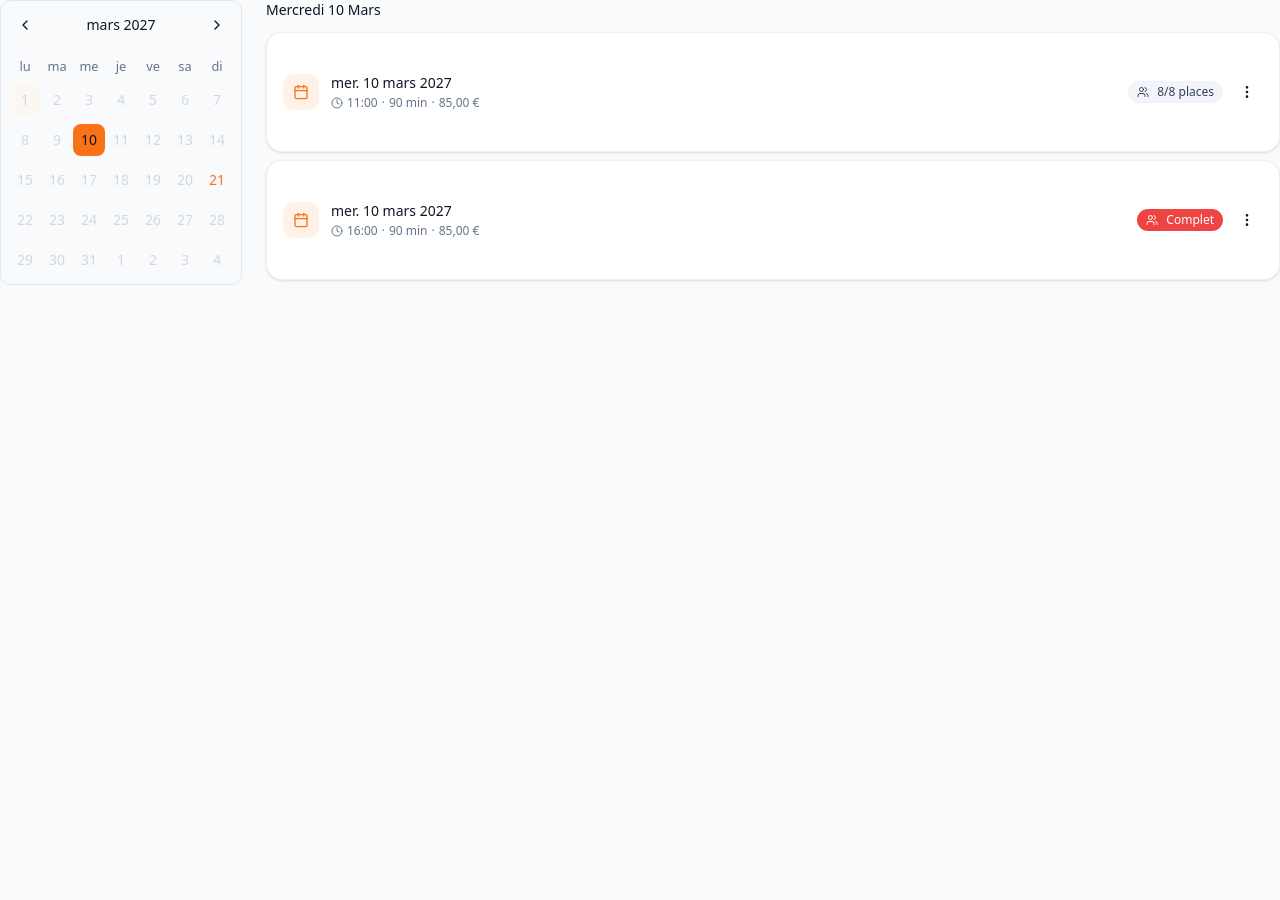
it: SlotCalendar › ouvre la confirmation avant de supprimer
Click the button named "Actions" next to "8/8 places". click: (1247,92)
box: [1231,76,1263,108]
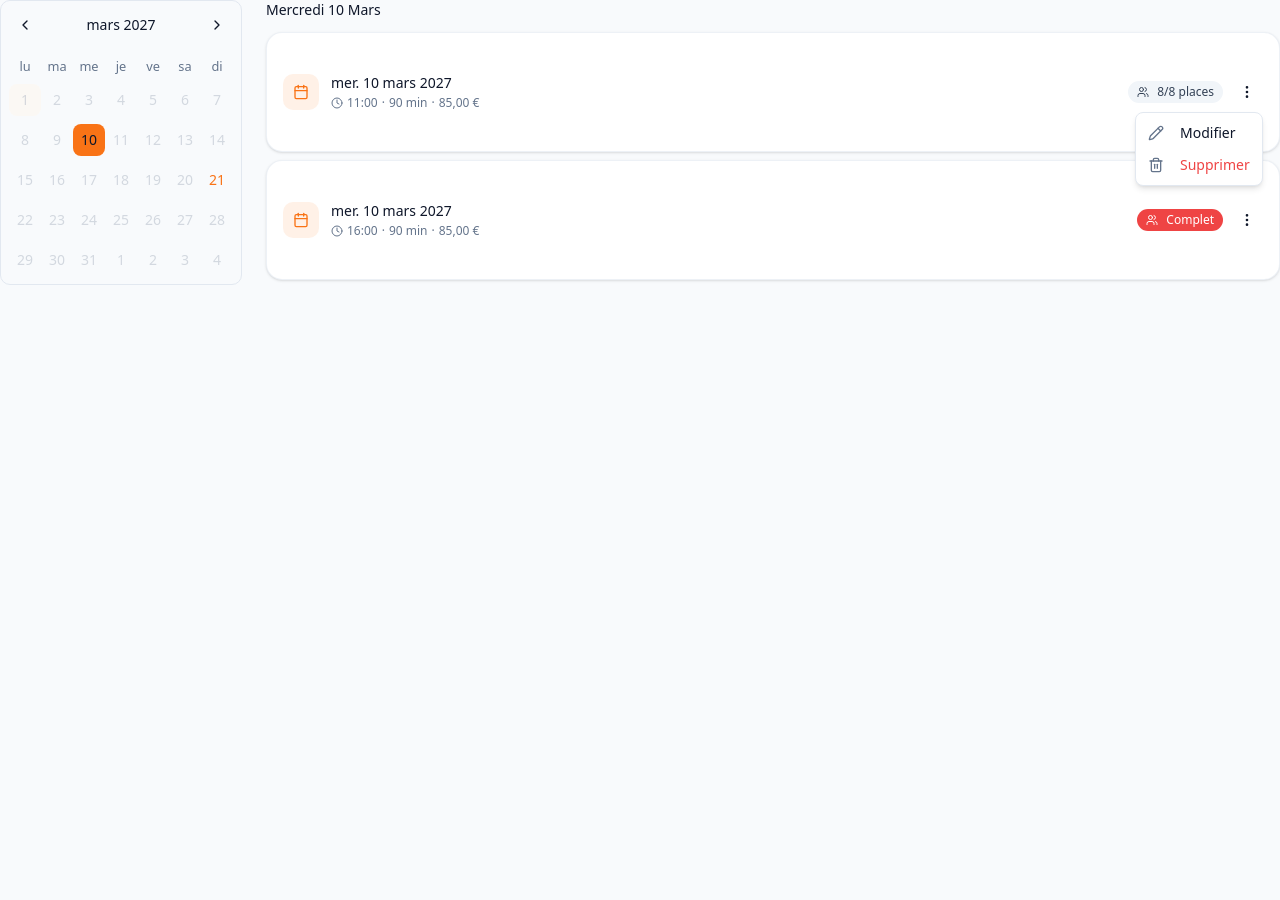
Click the menu item "Supprimer". click: (1199,164)
box: [1148,155,1250,174]
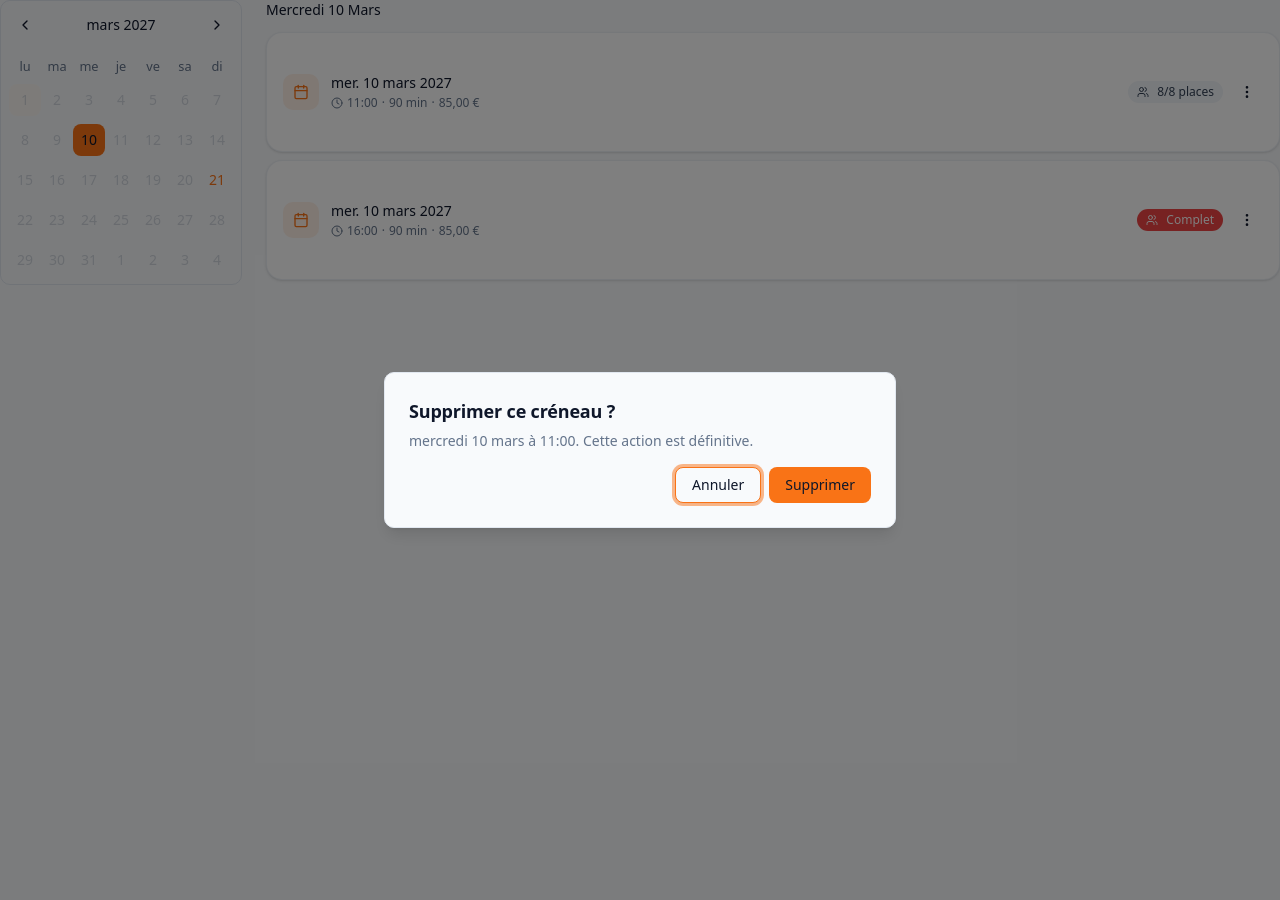
Now the heading "Supprimer ce créneau ?" is shown, box [409,397,615,425]
